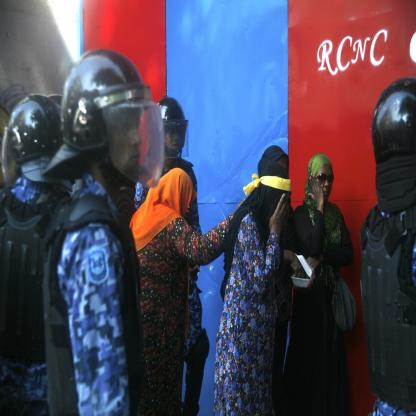Helmet: (55, 59, 159, 183), (370, 78, 416, 214), (0, 93, 62, 186), (145, 97, 190, 164)
